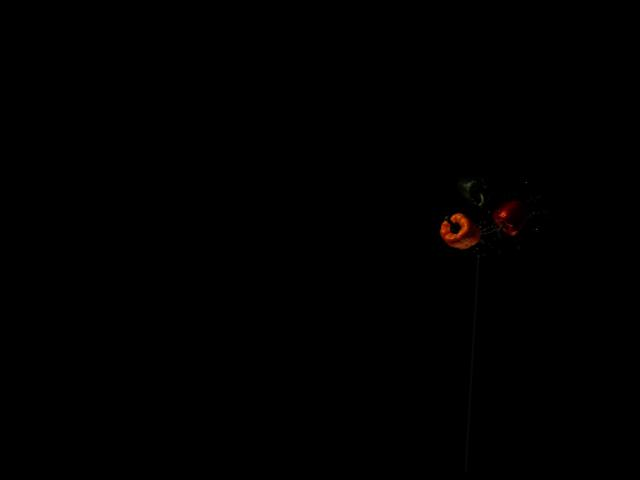bell_pepper: (484, 191, 529, 245)
